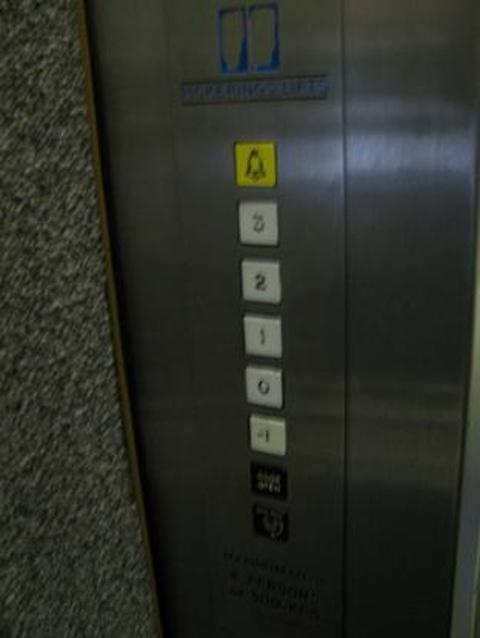-1: (248, 413, 286, 455)
0: (244, 363, 281, 408)
1: (241, 314, 280, 357)
2: (240, 258, 280, 303)
3: (237, 199, 278, 245)
alarm: (234, 140, 275, 185)
blur: (249, 461, 287, 499), (251, 505, 287, 540)
